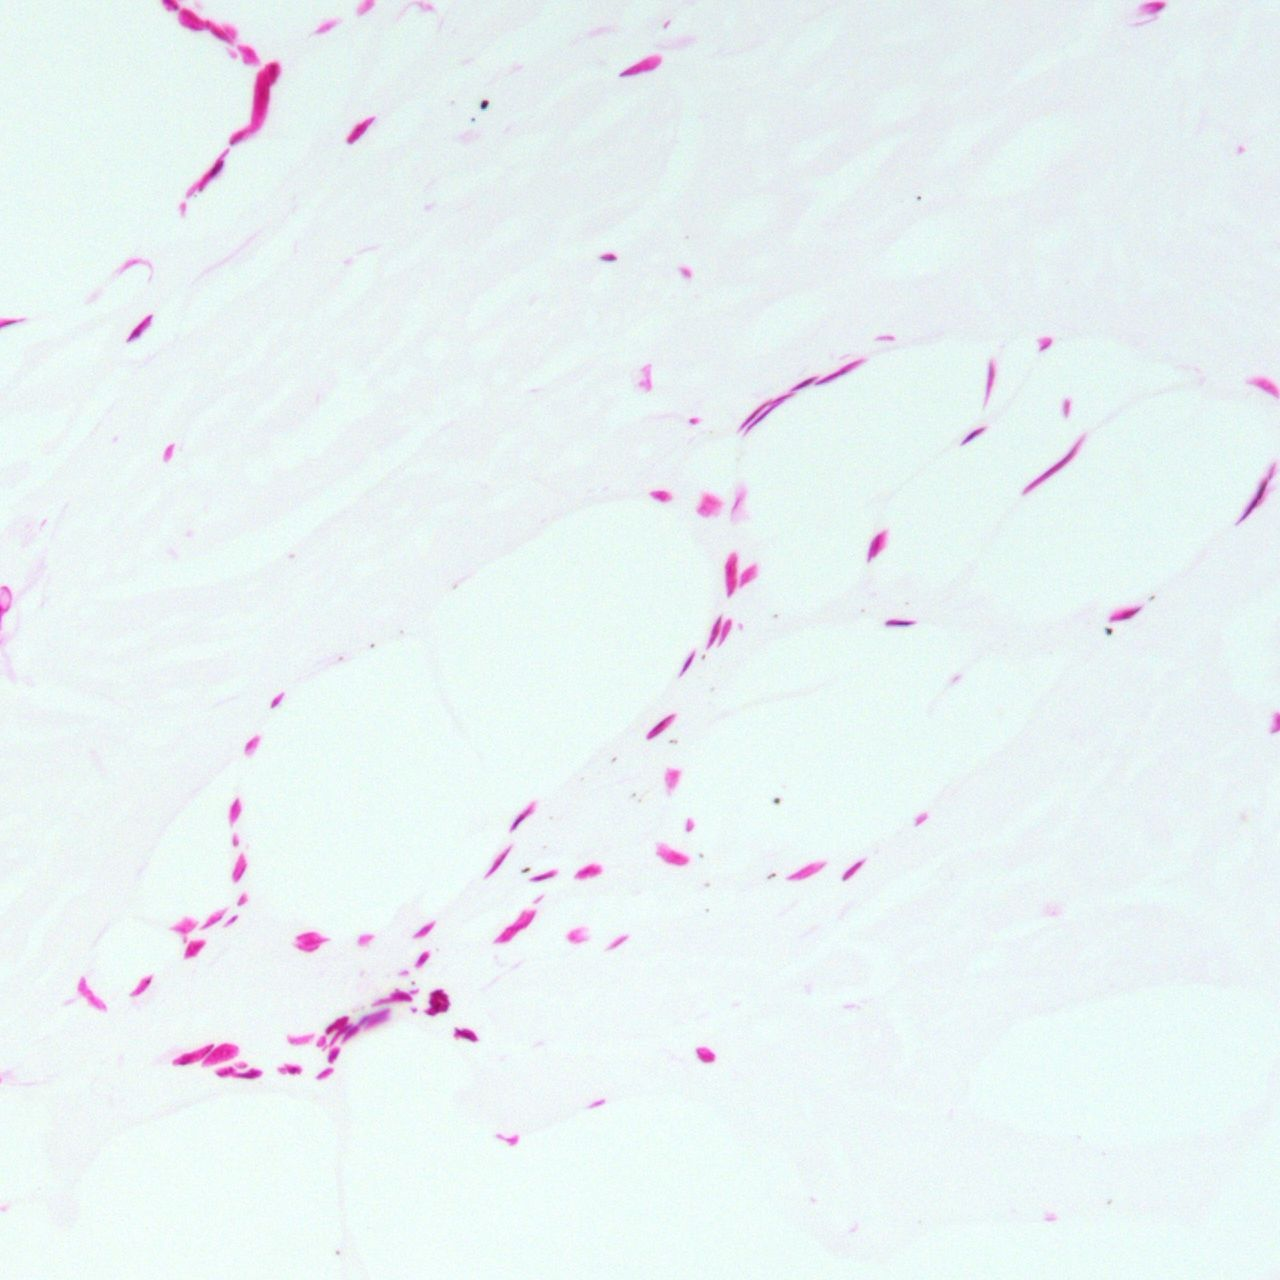dust: (765, 871, 777, 880), (520, 866, 530, 874), (481, 98, 488, 109), (1105, 627, 1112, 634), (611, 755, 617, 762), (772, 797, 779, 803), (669, 738, 678, 743), (704, 881, 710, 887), (338, 655, 343, 660), (917, 195, 921, 200), (699, 852, 704, 857), (632, 792, 636, 797), (772, 613, 778, 617), (400, 629, 403, 633), (370, 644, 374, 647), (701, 654, 704, 658)
nucleus-FG: (508, 797, 539, 836), (644, 709, 681, 741), (196, 156, 226, 191), (124, 311, 155, 345), (125, 972, 155, 1000), (704, 617, 724, 651), (324, 1012, 350, 1035), (676, 651, 697, 678), (789, 374, 816, 394), (429, 988, 449, 1013), (452, 1024, 479, 1042), (961, 424, 983, 444), (529, 869, 556, 883), (285, 1064, 300, 1073), (887, 620, 912, 625), (600, 253, 617, 260)
